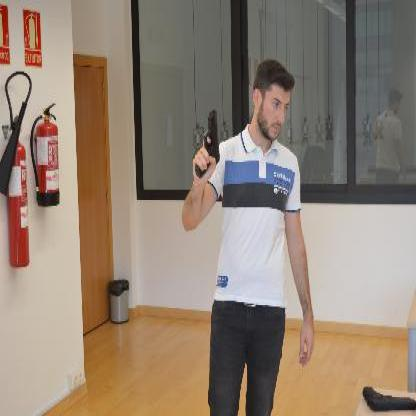pistol: (194, 108, 219, 177)
